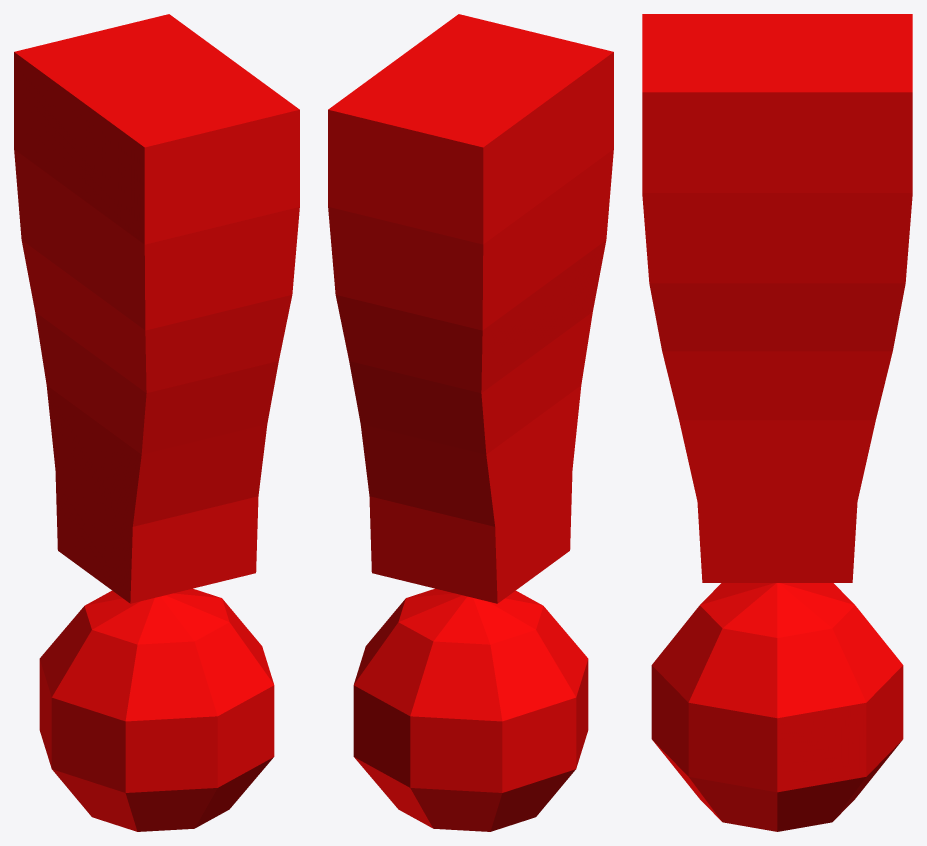
File: exclamation_mark.glb
The picture shows the model from 3 angles, left to right: view 1: azimuth 30°, elevation 25°; view 2: azimuth 150°, elevation 25°; view 3: azimuth 270°, elevation 25°; orthographic projection. The views are drawn at different scales.
Parts seen in each view (by area): view 1: Cube, Sphere; view 2: Cube, Sphere; view 3: Cube, Sphere.
Boxes of the visible parts, x1,y1,x2,y2 form: Cube: (14,14,299,603); Sphere: (39,588,274,831); Cube: (328,14,613,603); Sphere: (353,588,588,831); Cube: (642,14,912,582); Sphere: (651,583,903,831).
Bounding box in the file's own units: 3.35 × 11.29 × 3.6.
Materials: 2 (2 with a texture image).
